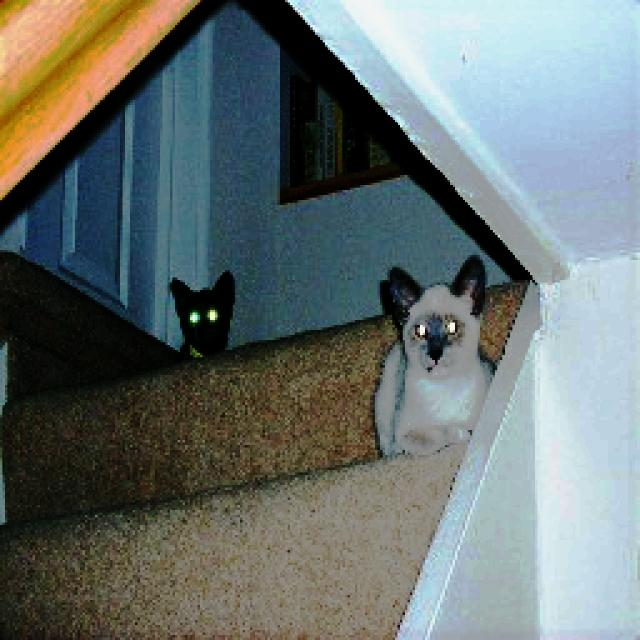cat: (365, 248, 500, 455), (156, 270, 242, 366)
